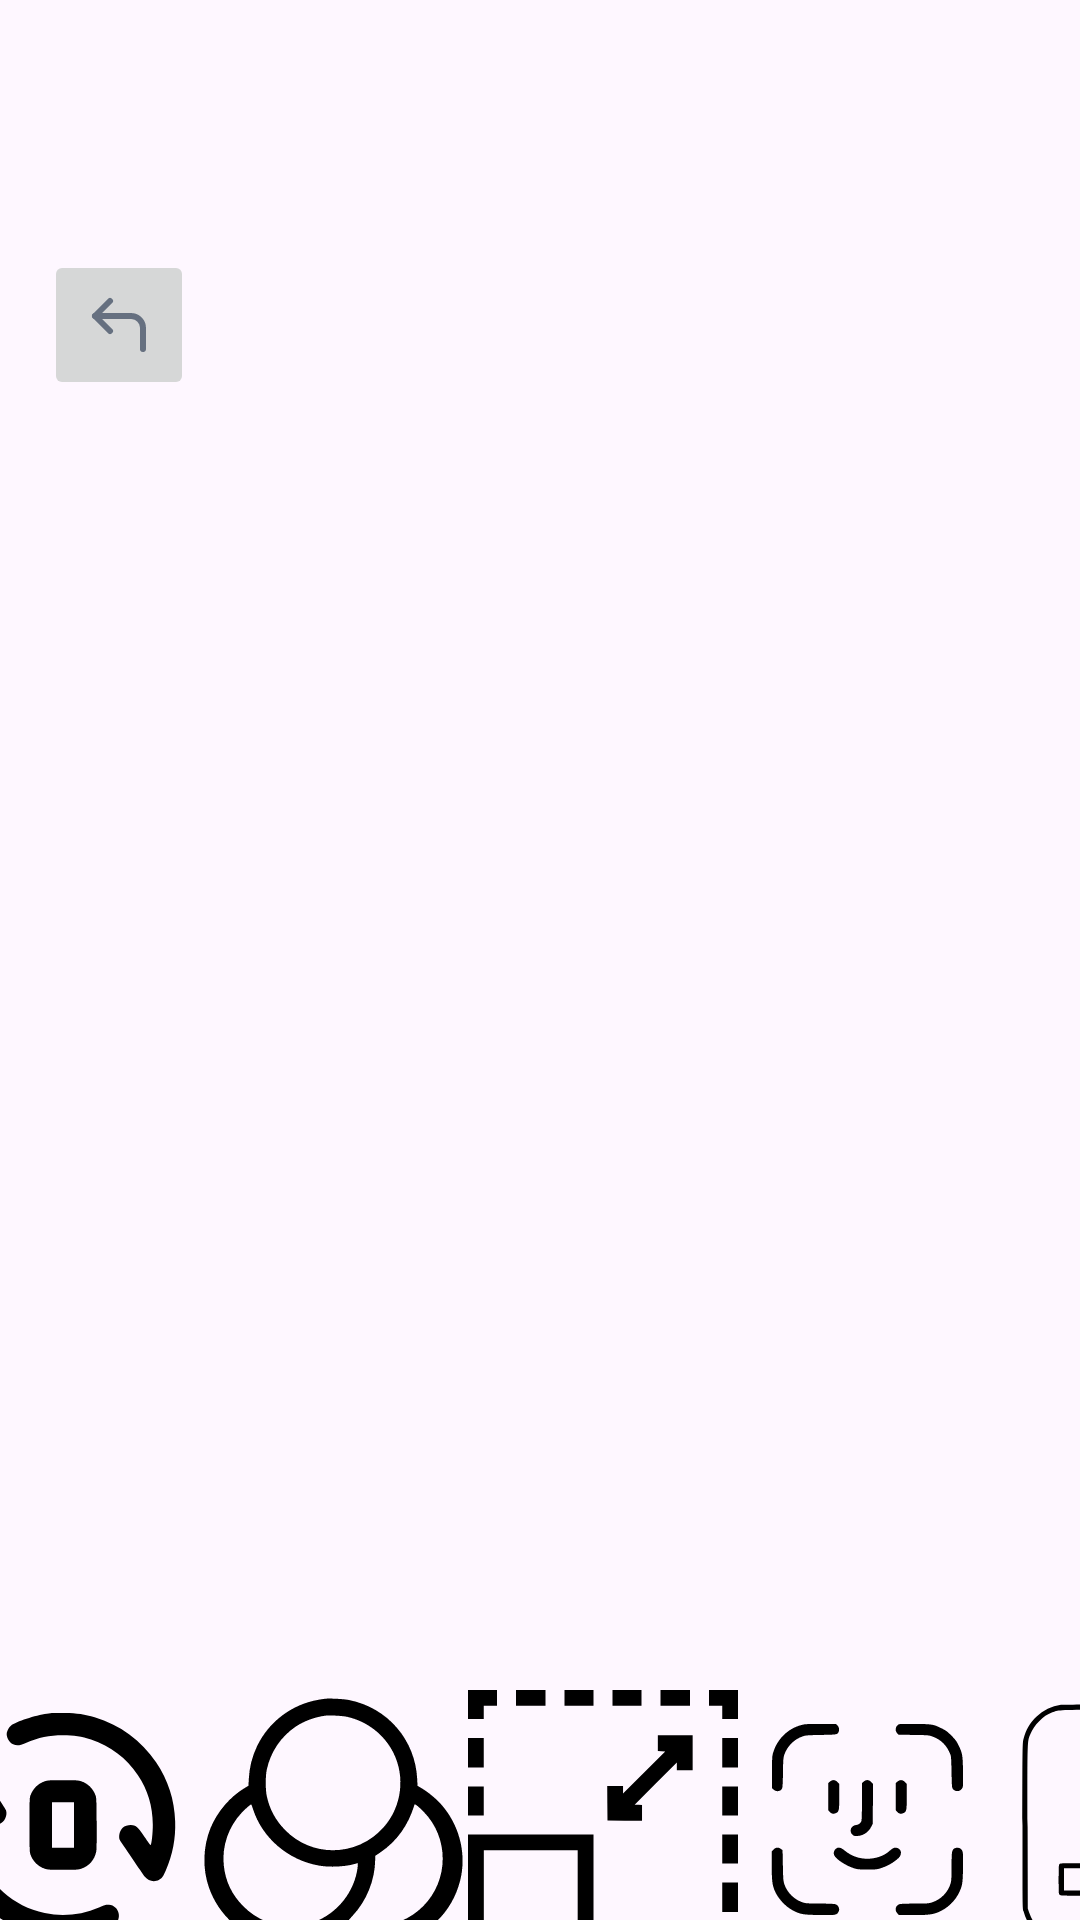

Point at icon controls on the screen. Image size 1080px x 1920px, points as point (x, y).
corner up left: point (119, 325)
